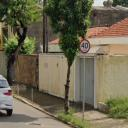speed_limit_40: (79, 38, 90, 54)
